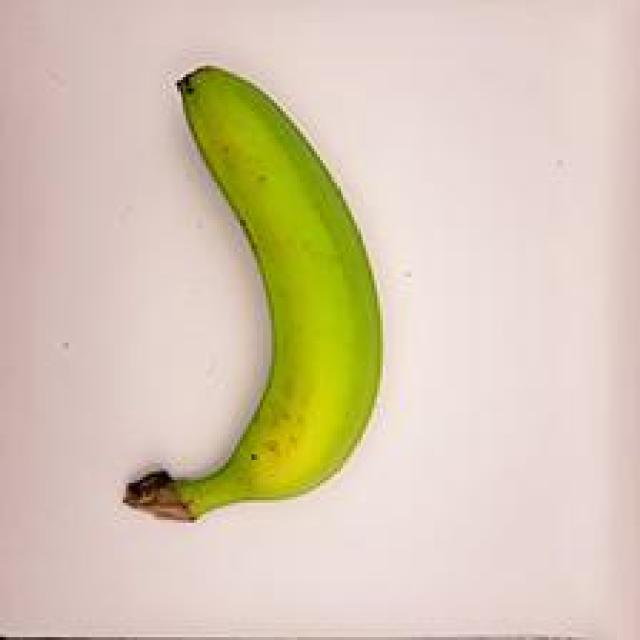Unripe: (116, 59, 415, 547)
